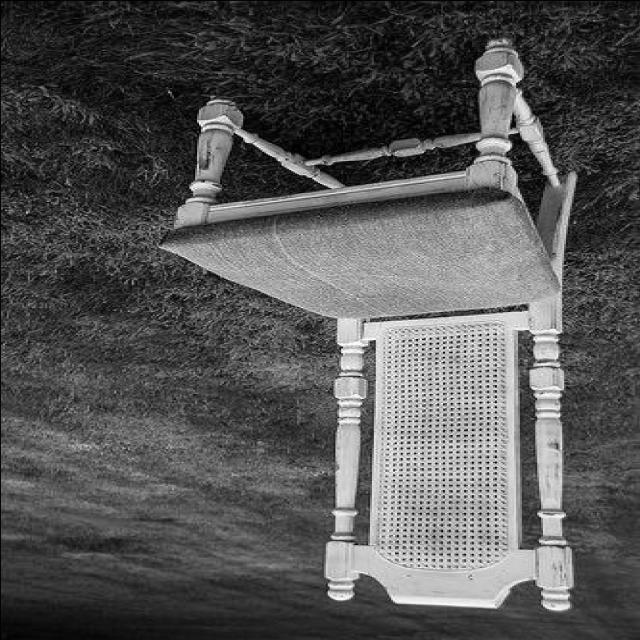chair: (174, 39, 574, 611)
